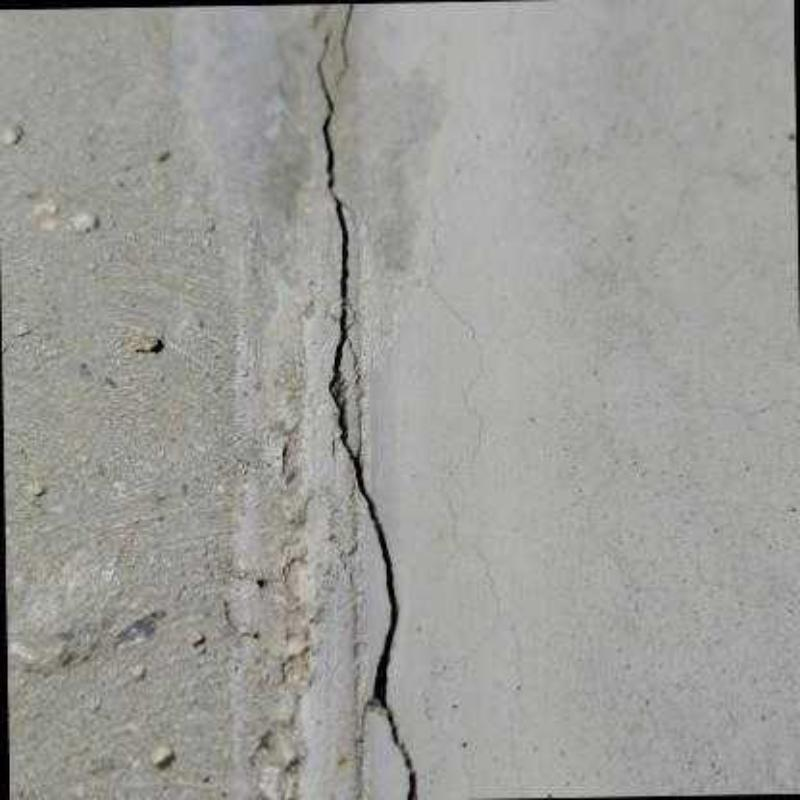crack: (312, 22, 417, 800), (331, 2, 355, 91)
